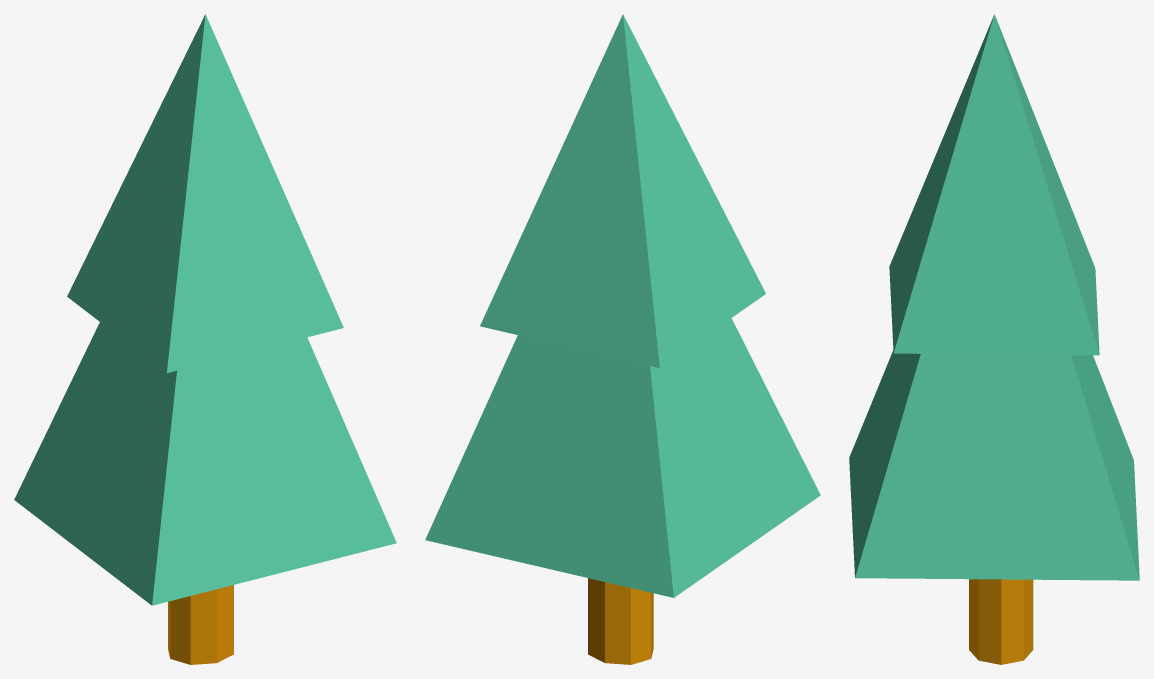
File: arbre_02.fbx
3 renders of one model, left to right at view 1: azimuth 30°, elevation 25°; view 2: azimuth 150°, elevation 25°; view 3: azimuth 270°, elevation 25°, orthographic.
Parts seen in each view (by area): view 1: Cone, Cone.002, Cylinder; view 2: Cone, Cone.002, Cylinder; view 3: Cone, Cone.002, Cylinder.
Boxes of the visible parts, bbox=[...] form: Cone: bbox=[14, 322, 396, 605]; Cone.002: bbox=[67, 14, 343, 372]; Cylinder: bbox=[168, 585, 233, 664]; Cone: bbox=[425, 318, 820, 597]; Cone.002: bbox=[480, 14, 765, 367]; Cylinder: bbox=[588, 578, 653, 664]; Cone: bbox=[849, 350, 1139, 580]; Cone.002: bbox=[889, 14, 1099, 355]; Cylinder: bbox=[969, 579, 1033, 664].
Bounding box in the file's own units: 121 × 294 × 121.
